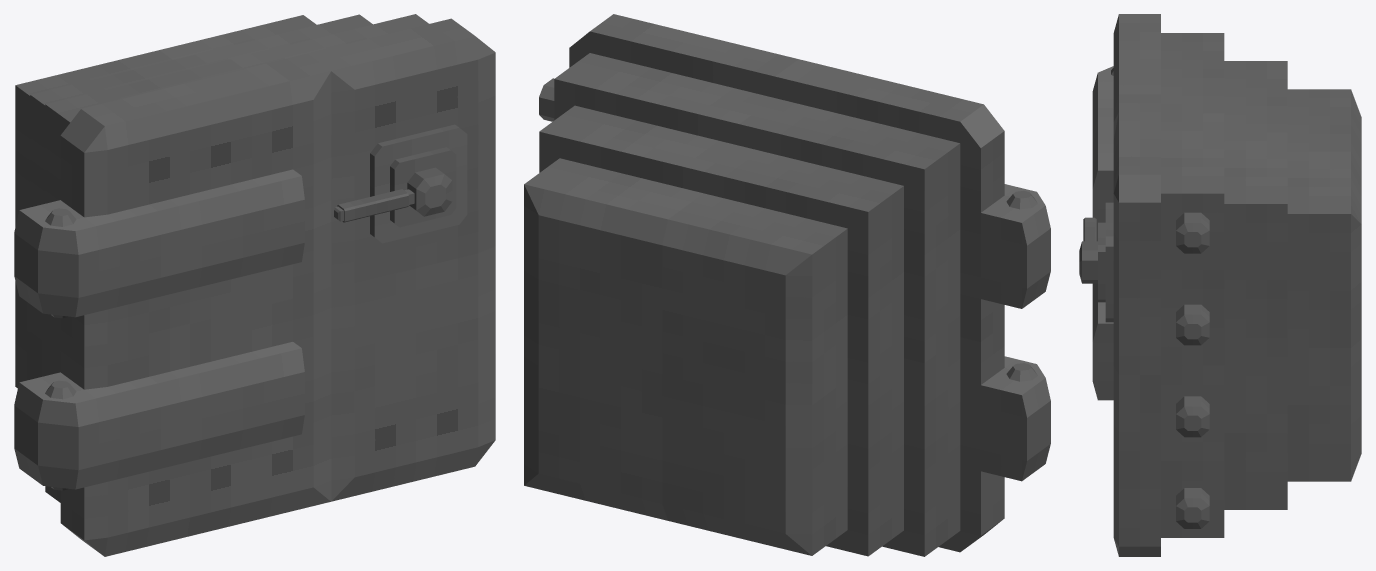
The model's file is door.obj.
3 views of the same model, side by side, from view 1: azimuth 30°, elevation 25°; view 2: azimuth 150°, elevation 25°; view 3: azimuth 270°, elevation 25° (orthographic). The views are drawn at different scales.
Parts seen in each view (by area): view 1: icon; view 2: icon; view 3: icon.
Part boxes in pixels (x1,y1,x2,y2): icon: (14, 14, 495, 556); icon: (524, 14, 1050, 556); icon: (1079, 14, 1361, 556).
Bounding box in the file's own units: 2.82 × 2.5 × 1.67.
